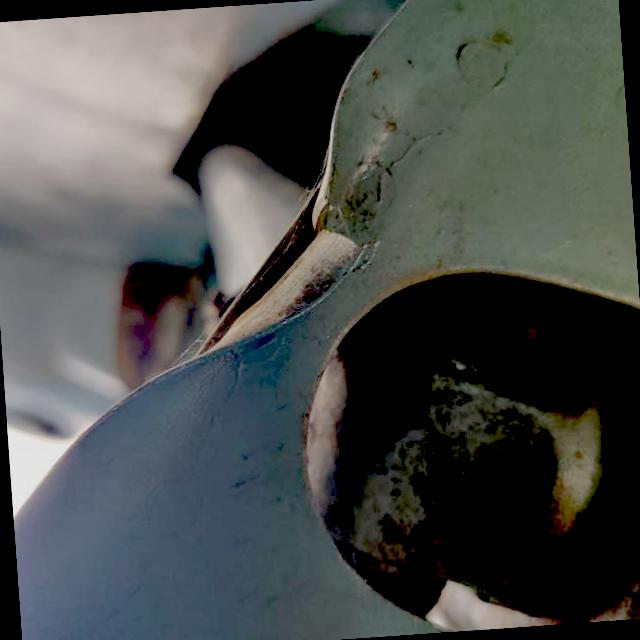crack: (292, 198, 378, 274)
